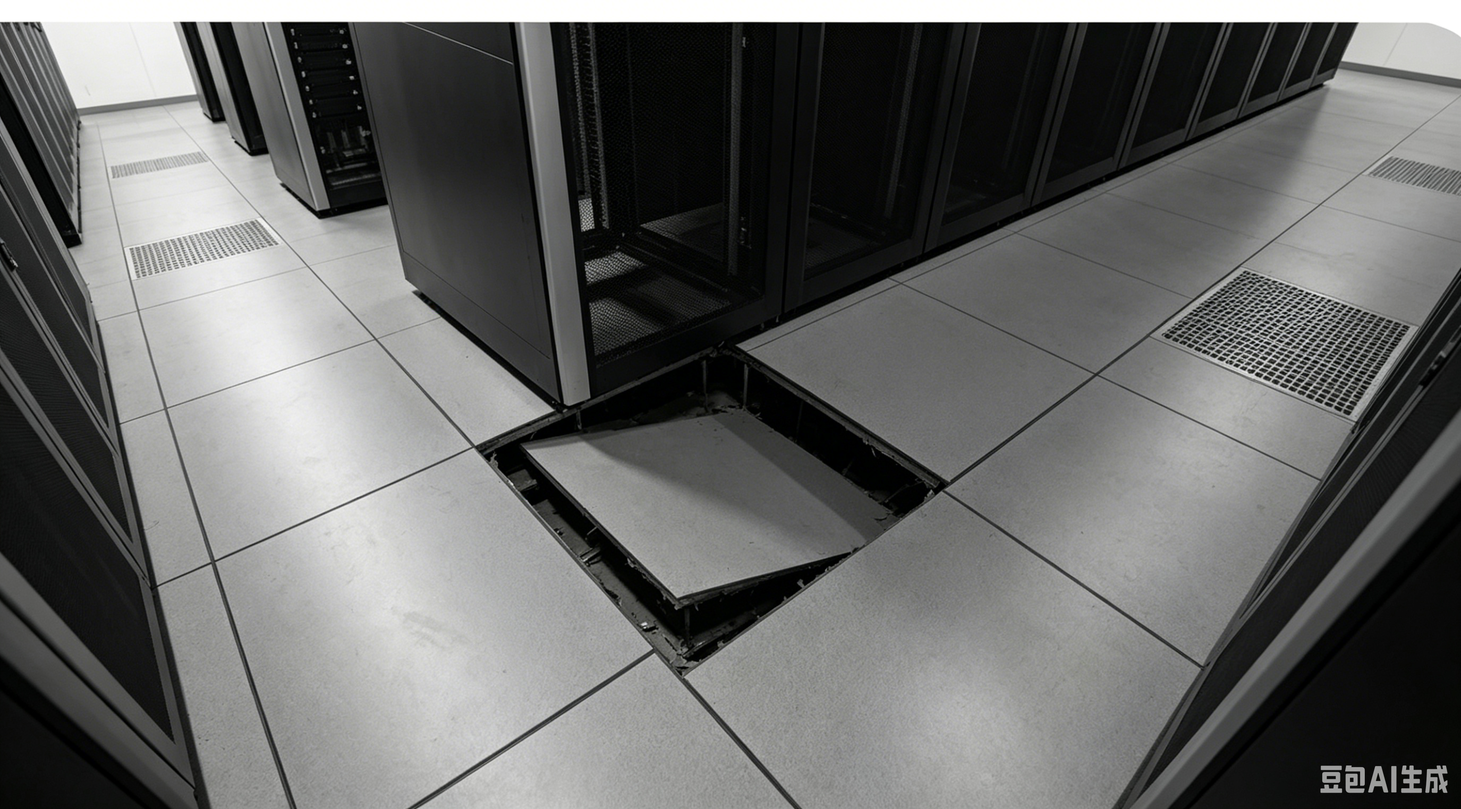floor_defect: (434, 353, 980, 664)
